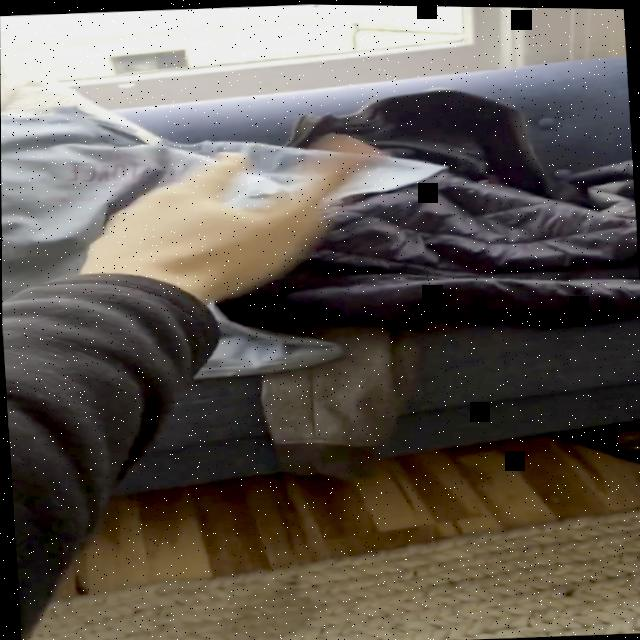Paper: (71, 140, 377, 304)
